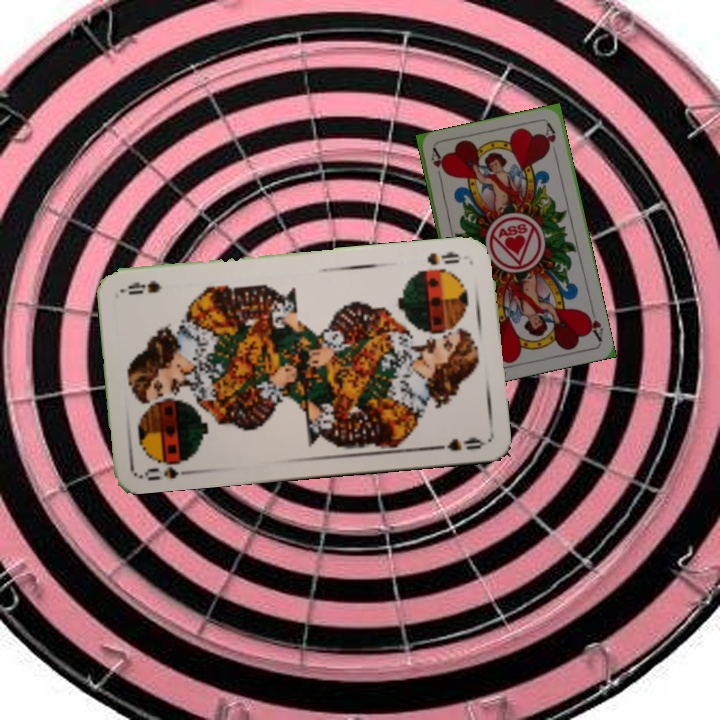HA: (582, 304, 606, 344), (427, 145, 447, 186)
SO: (138, 454, 197, 484), (423, 247, 462, 268)
